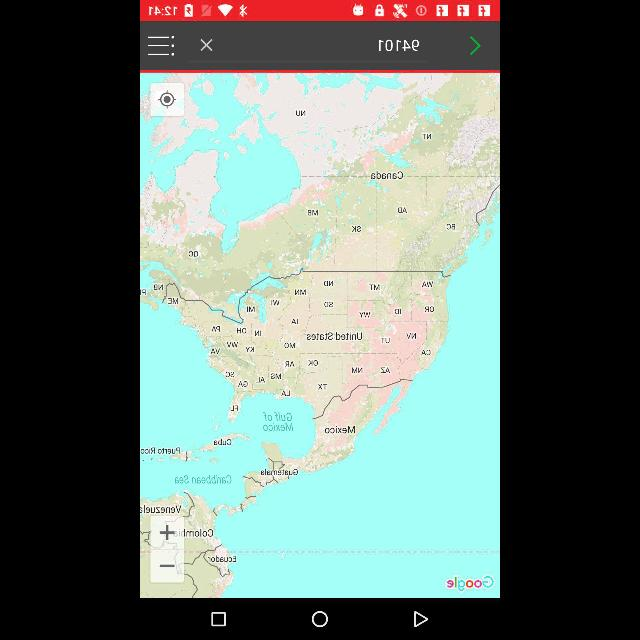icon: (150, 516, 186, 550), (151, 550, 185, 582), (147, 34, 176, 58), (157, 90, 177, 110), (468, 34, 482, 58), (414, 610, 431, 628), (311, 612, 329, 628), (199, 36, 215, 52), (211, 611, 227, 627)
input: (188, 34, 430, 62)
map: (140, 73, 500, 597)
panel: (140, 599, 500, 639)
text: (378, 38, 418, 54)
uppertaskbar: (141, 1, 499, 21)
